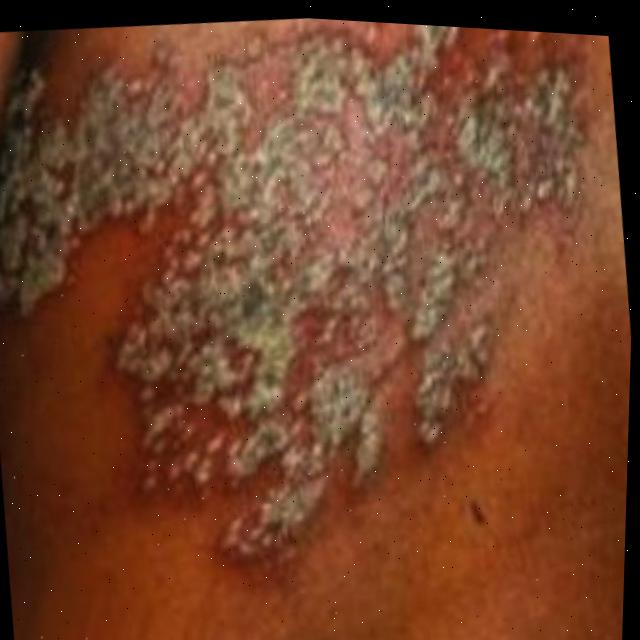Shingles: (0, 0, 621, 604)
